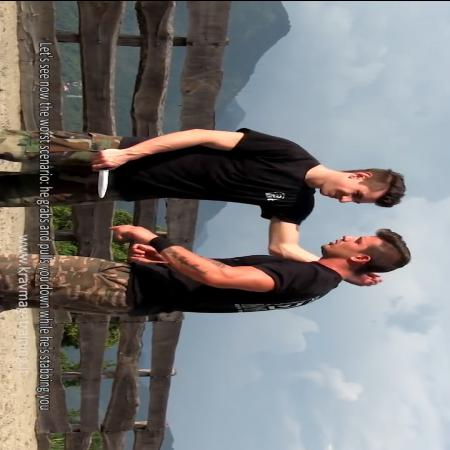long weapon: (92, 144, 120, 200)
